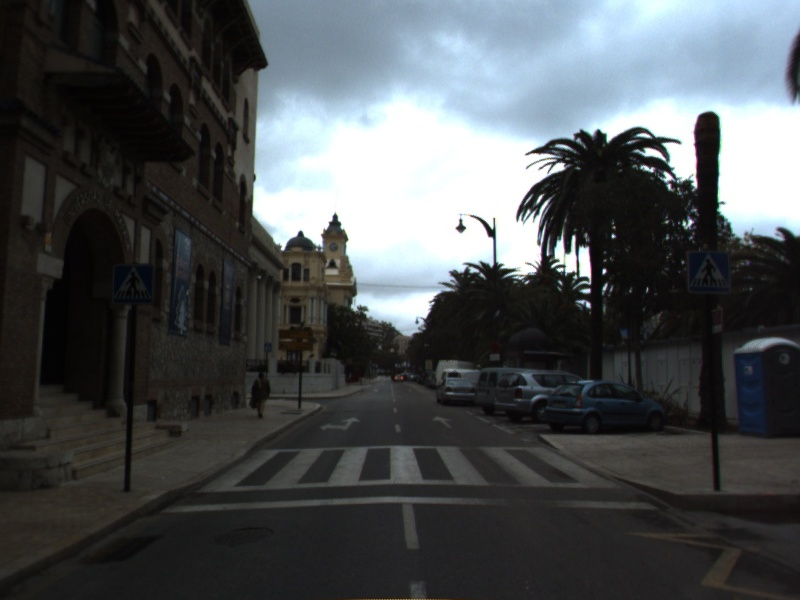STRAIGHT: (430, 413, 456, 430)
STRAIGHT_LEFT: (317, 415, 363, 433)
